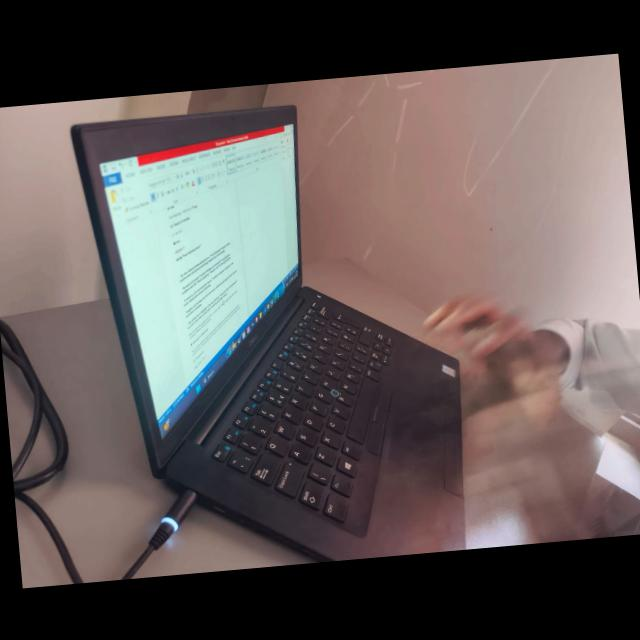laptop: (54, 85, 504, 572)
